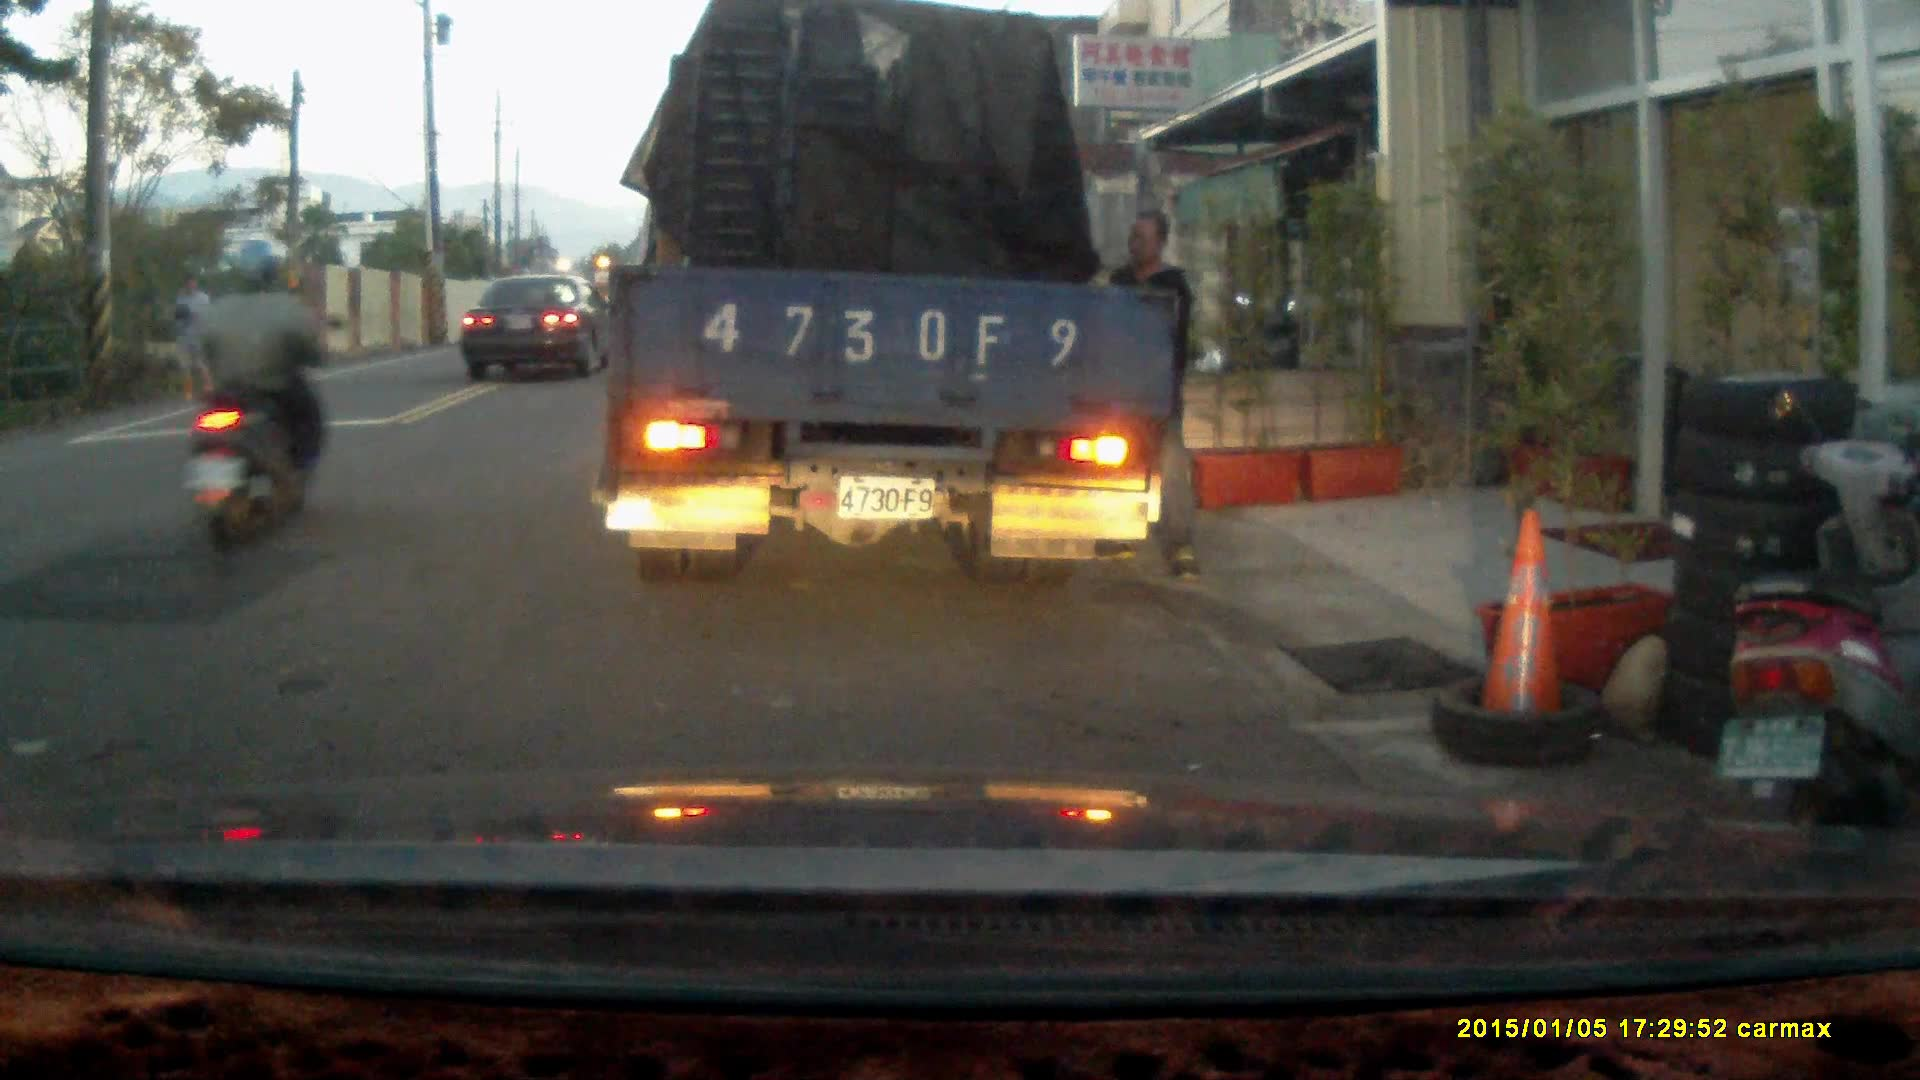pedestrian: (1074, 206, 1204, 581), (170, 271, 216, 405)
rider: (181, 233, 338, 557)
vehicle: (605, 23, 1179, 572), (463, 272, 615, 382)
